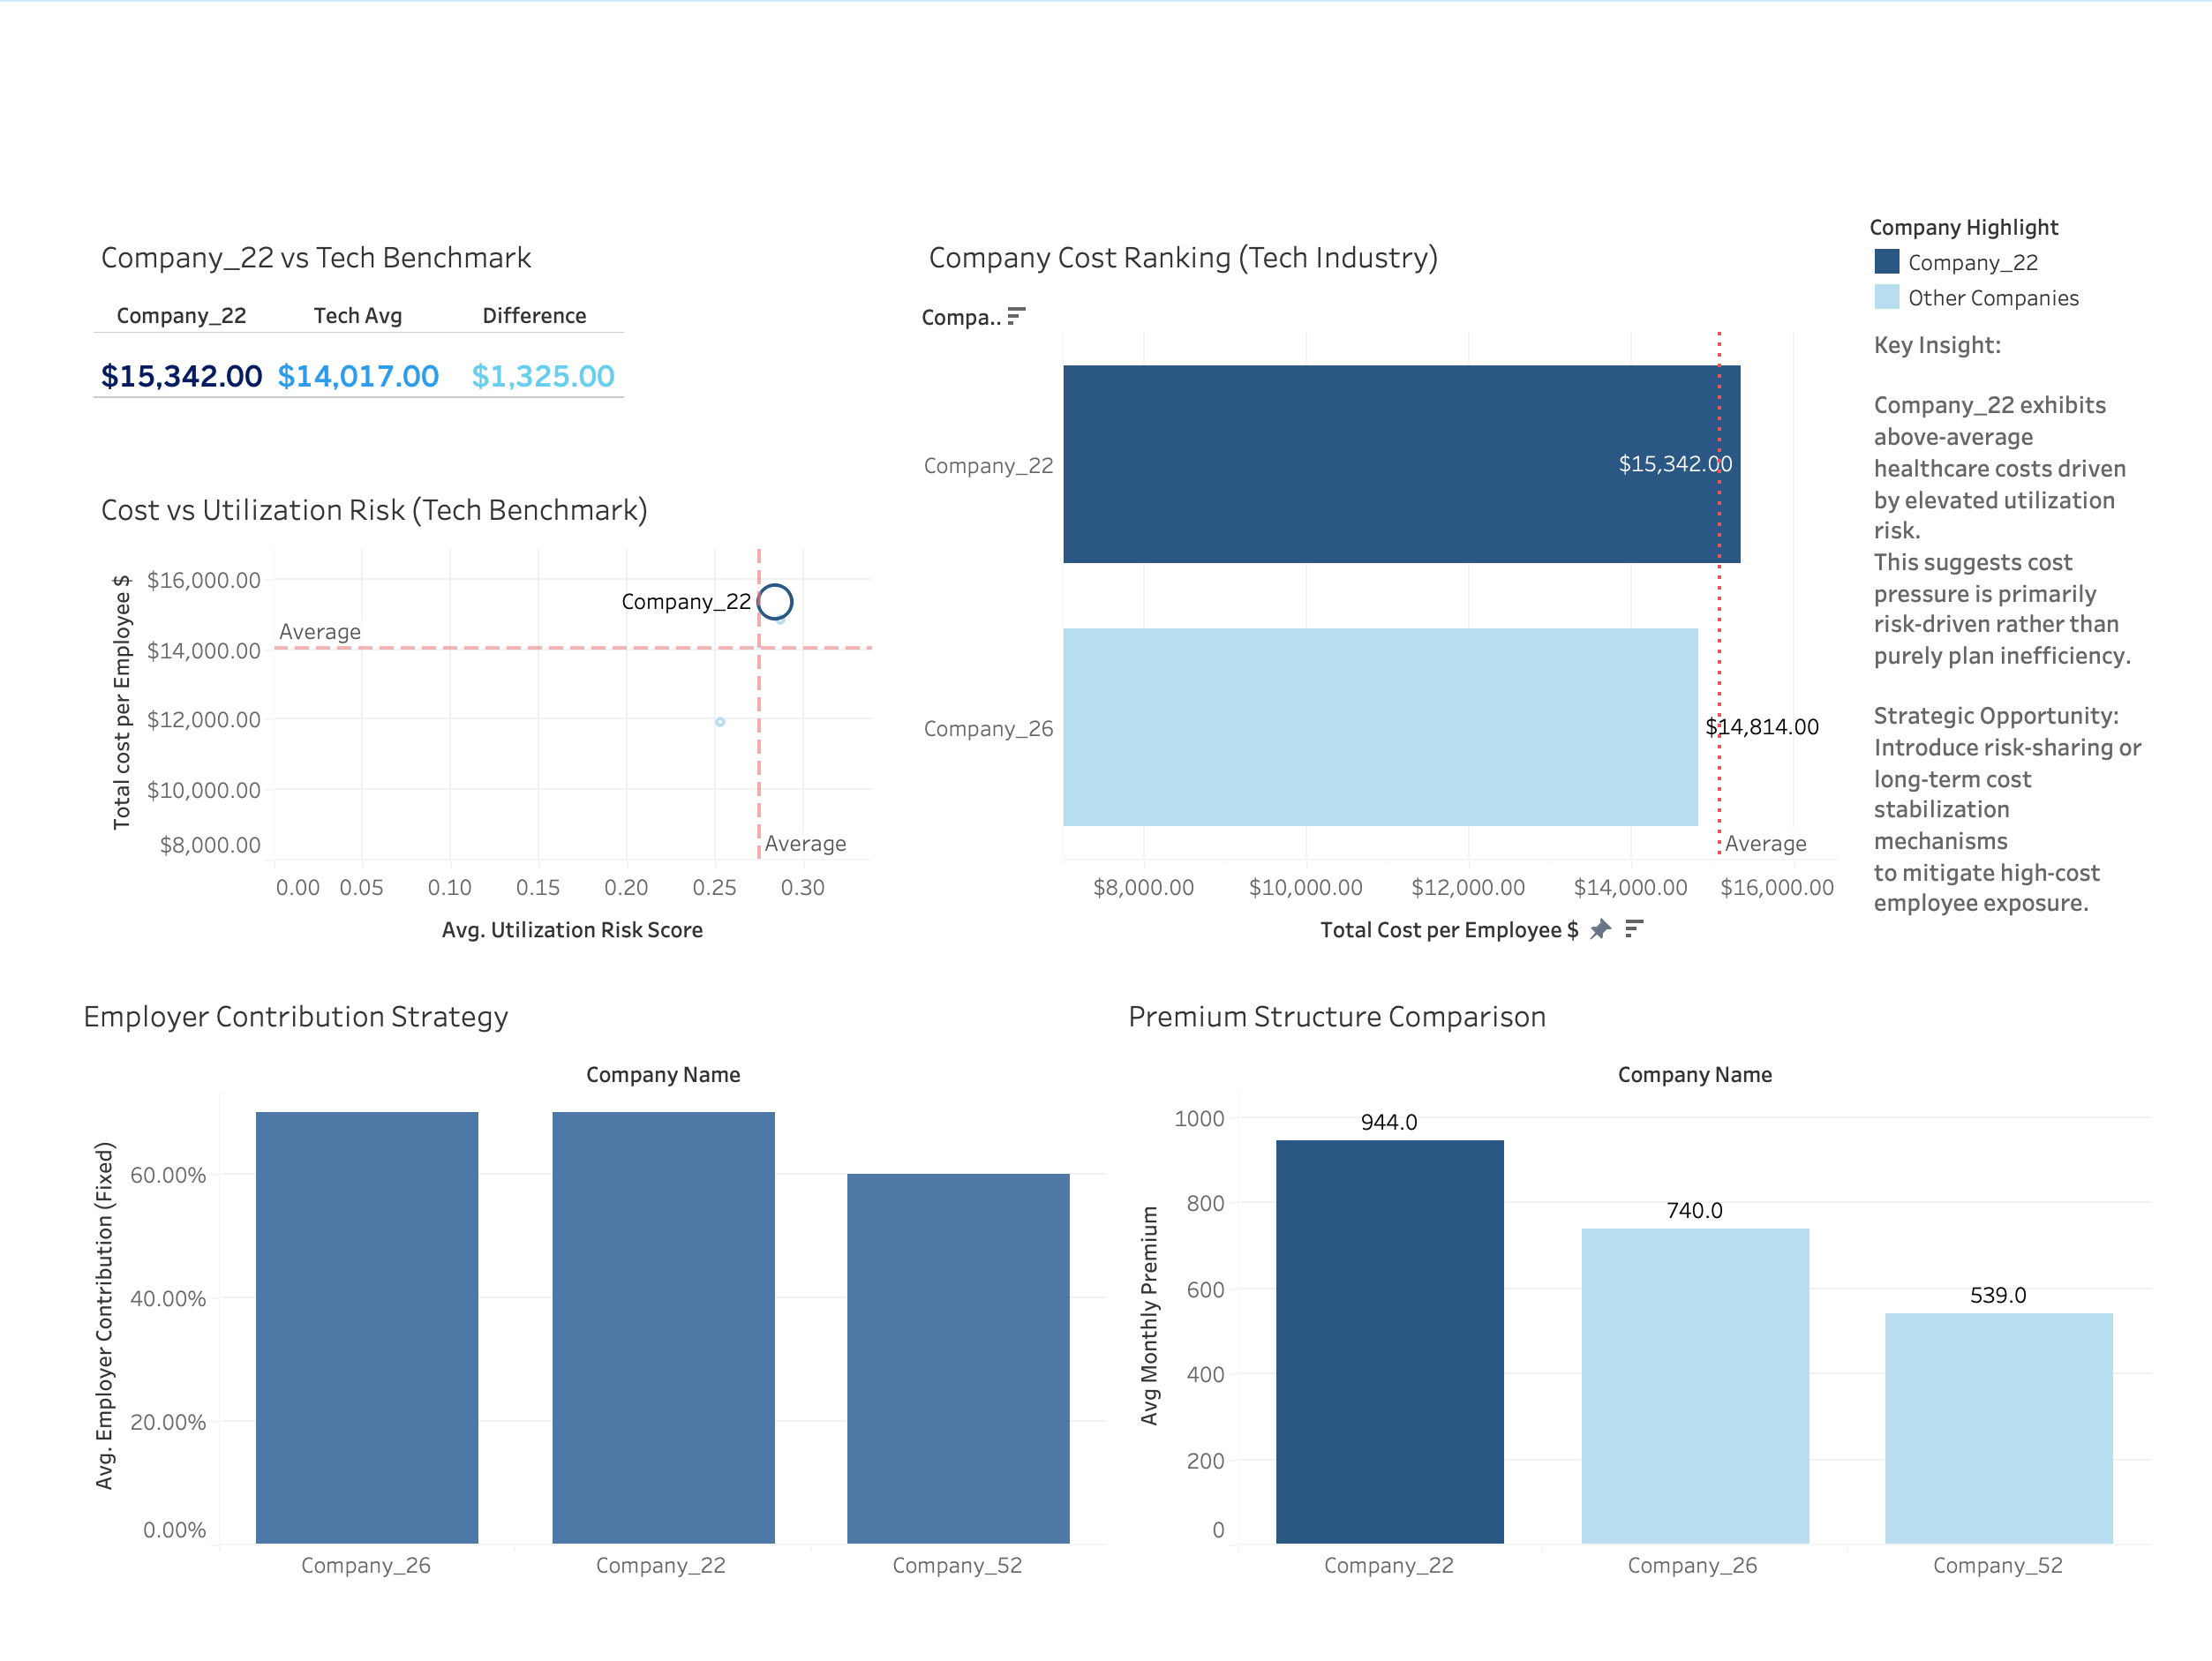

This screenshot's page, from the dashboard's own definition file:
{"tool":"tableau","page":{"name":"Healthcare Cost & Risk Strategy — Technology Industry Benchmark","canvas":[1000,1000],"units":"permille","ordinal":0},"visuals":[{"type":"worksheet","title":"KPI - Combined","mark":"Text","box":[10.3,10,412.8,178.8]},{"type":"worksheet","title":"Total Annual Cost per Employee (Premium + Claims)","mark":"Automatic","rows":["company_name"],"cols":["Calculation_2501397806132867081"],"box":[423.1,10,351.3,550]},{"type":"legend","title":"Cost vs Risk Analysis","param":"[federated.1rd1sep17urwab10fmr0s0ivjo0j].[none:Calculation_2501397805487280133:n","box":[774.4,10,215.4,82.5]},{"type":"text","box":[774.4,92.5,215.4,435]},{"type":"worksheet","title":"Cost vs Risk Analysis","mark":"Automatic","rows":["Calculation_2501397806132867081"],"cols":["utilization_risk_score"],"box":[10.3,188.8,412.8,371.2]},{"type":"worksheet","title":"Employer Contribution Comparison","mark":"Automatic","rows":["Calculation_2501397805493932038"],"cols":["company_name"],"box":[10.3,560,489.7,430]},{"type":"worksheet","title":"Premium Comparison","mark":"Automatic","rows":["Calculation_2501397805486116868"],"cols":["company_name"],"box":[500,560,489.7,430]}]}

Visuals, with their boxes on the dashboard's canvas, which has no fixed pixel size, in thousandths of its width and height (x1, y1, x2, y2). These are canvas units, not pixel positions in the 2212x1661 screenshot, which may show the page scaled, cropped or inside an application window:
"KPI - Combined" worksheet (Text marks): {"left": 10, "top": 10, "right": 423, "bottom": 189}
"Total Annual Cost per Employee (Premium + Claims)" worksheet: {"left": 423, "top": 10, "right": 774, "bottom": 560}
"Cost vs Risk Analysis" legend: {"left": 774, "top": 10, "right": 990, "bottom": 92}
text: {"left": 774, "top": 92, "right": 990, "bottom": 528}
"Cost vs Risk Analysis" worksheet: {"left": 10, "top": 189, "right": 423, "bottom": 560}
"Employer Contribution Comparison" worksheet: {"left": 10, "top": 560, "right": 500, "bottom": 990}
"Premium Comparison" worksheet: {"left": 500, "top": 560, "right": 990, "bottom": 990}
